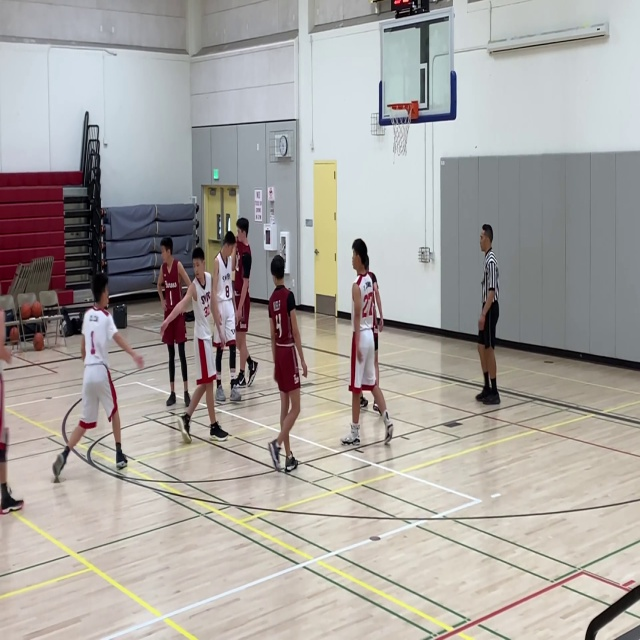Basketball: (33, 332, 44, 351), (31, 301, 43, 318), (20, 304, 32, 319), (9, 326, 19, 342)
